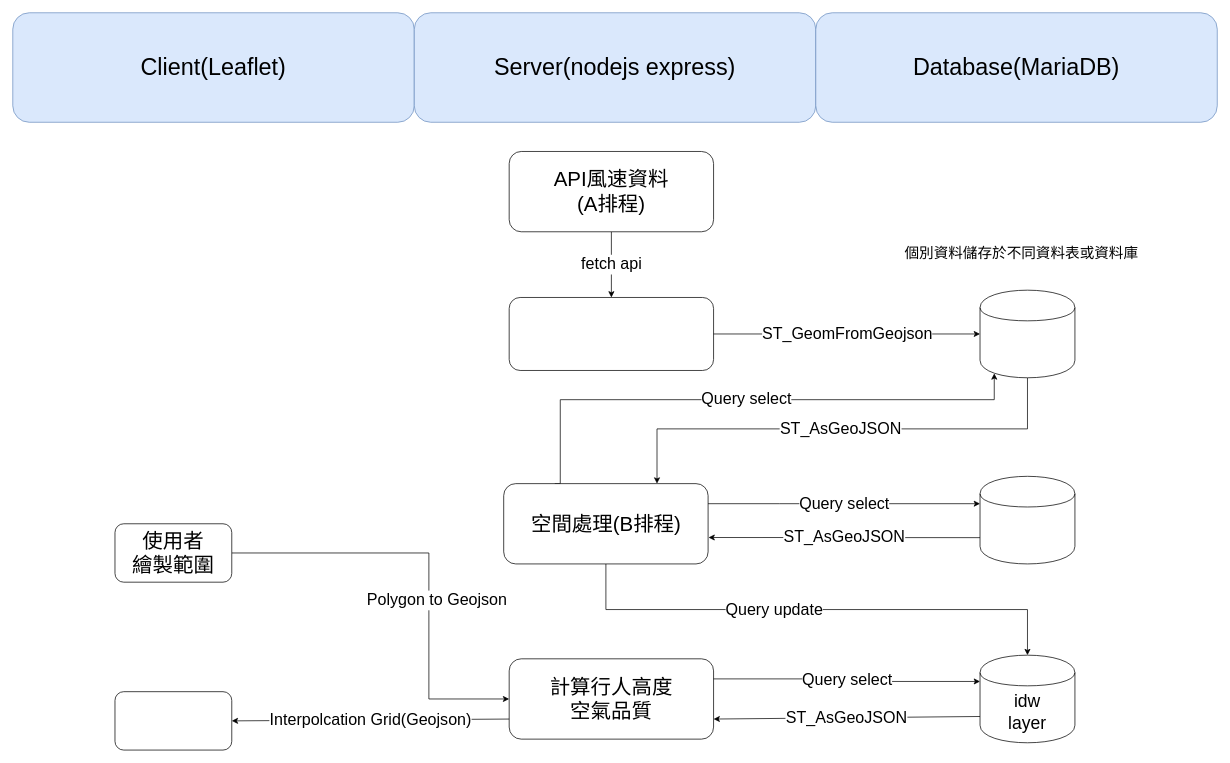
This 1230x763 diagram has some shape labels left out. Each missing label, with the centre of its shape:
roughness layer: [1027,520]
wind data: [1027,333]
前處理 (處理成geojson): [611,333]
地圖展示: [173,720]
